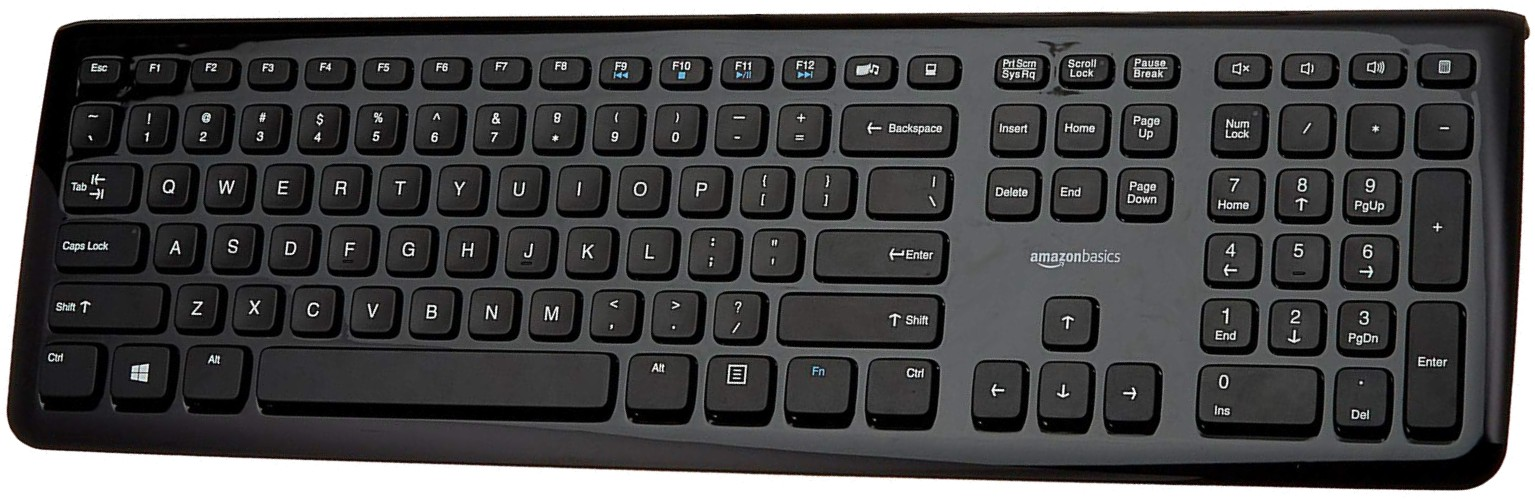keyboard: (50, 23, 1514, 484)
